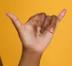clockwise: (5, 6, 68, 56)
